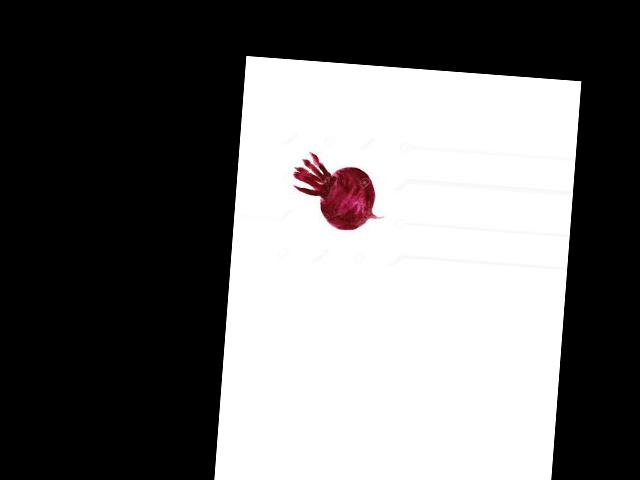beet: (289, 151, 389, 233)
